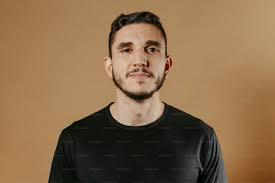person: (102, 4, 175, 104)
